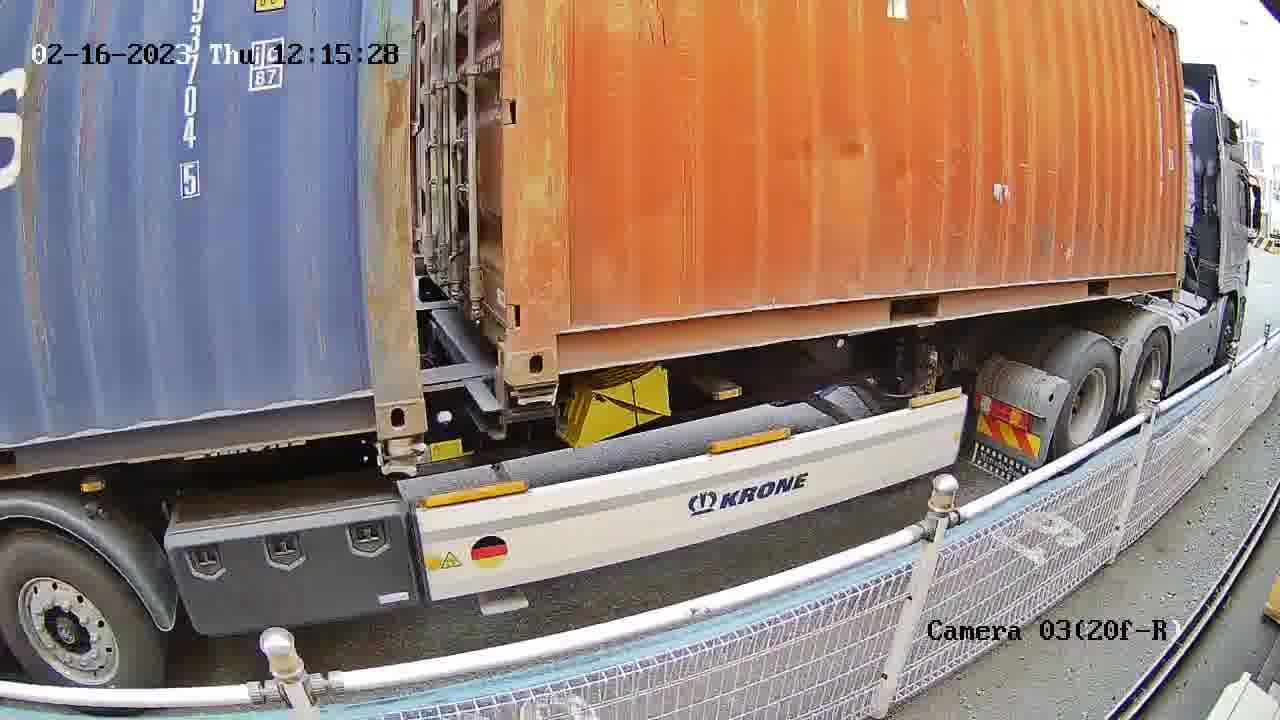Cone: (373, 434, 426, 481), (510, 377, 563, 411)
Hole_L: (513, 290, 594, 383)
Hole_R: (318, 338, 425, 435), (474, 279, 516, 383)
Tire: (0, 536, 160, 683), (1057, 338, 1118, 451), (1126, 326, 1169, 415)
